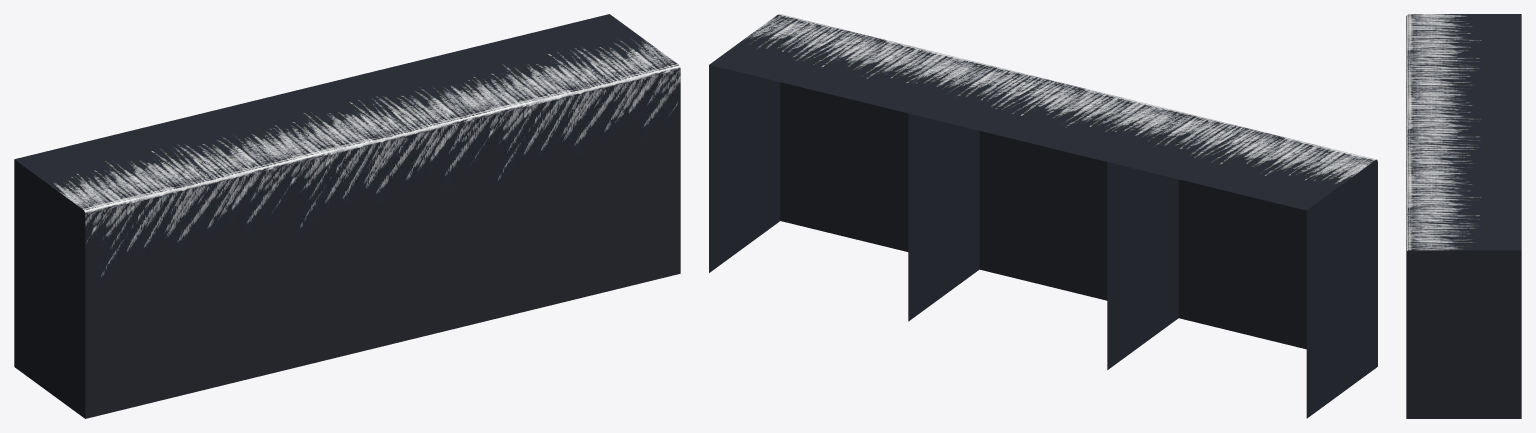
The model's file is Ground3.fbx.
The picture shows the model from 3 angles, left to right: view 1: azimuth 30°, elevation 25°; view 2: azimuth 150°, elevation 25°; view 3: azimuth 270°, elevation 25°; orthographic projection. The views are drawn at different scales.
Visible parts, largest first — view 1: Ground6; view 2: Ground6; view 3: Ground6.
Boxes of the visible parts, x1,y1,x2,y2 form: Ground6: (14,14,680,418); Ground6: (709,14,1377,418); Ground6: (1406,14,1521,418).
Bounding box in the file's own units: 6 × 2 × 1.24.
